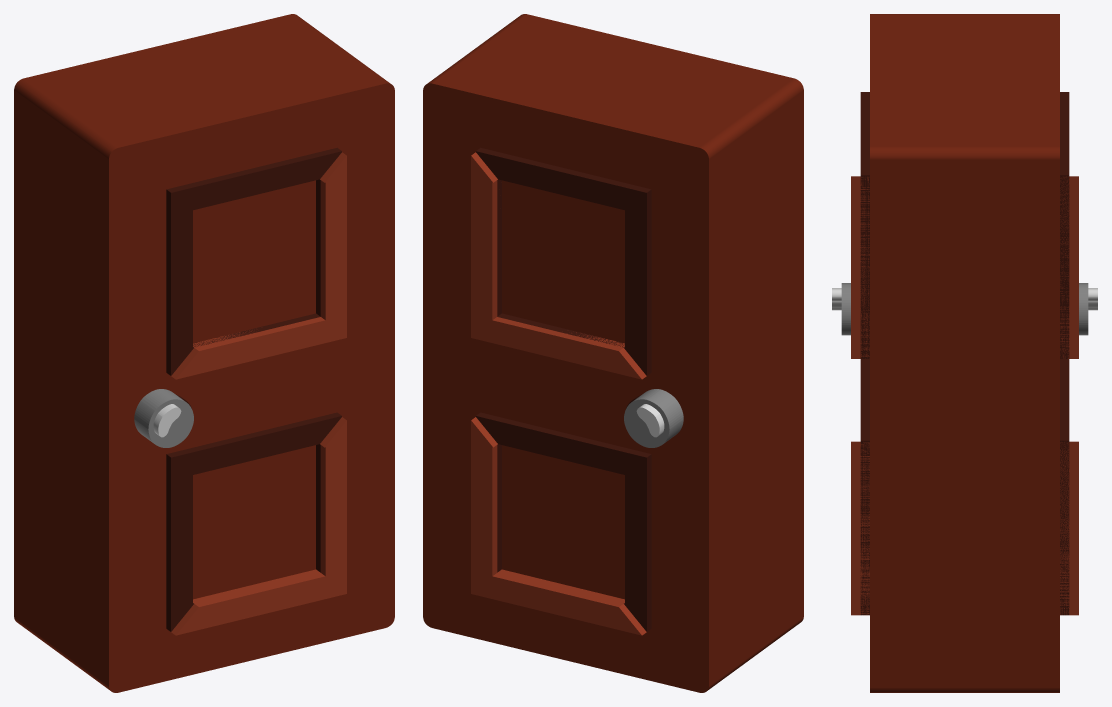
The picture shows the model from 3 angles, left to right: view 1: azimuth 30°, elevation 25°; view 2: azimuth 150°, elevation 25°; view 3: azimuth 270°, elevation 25°; orthographic projection.
Parts seen in each view (by area): view 1: U+1F6AA_layer00_obj00, U+1F6AA_layer01_obj00, U+1F6AA_layer01_obj01, U+1F6AA_layer02_obj01, U+1F6AA_layer02_obj00, U+1F6AA_layer03_obj00; view 2: U+1F6AA_layer00_obj00, U+1F6AA_layer01_obj00, U+1F6AA_layer01_obj01, U+1F6AA_layer02_obj01, U+1F6AA_layer02_obj00, U+1F6AA_layer03_obj00; view 3: U+1F6AA_layer00_obj00, U+1F6AA_layer02_obj01, U+1F6AA_layer02_obj00, U+1F6AA_layer01_obj00, U+1F6AA_layer01_obj01, U+1F6AA_layer03_obj00, U+1F6AA_layer04_obj00.
Part boxes in pixels (x1,y1,x2,y2): U+1F6AA_layer00_obj00: (14, 14, 394, 692); U+1F6AA_layer01_obj00: (166, 147, 341, 375); U+1F6AA_layer01_obj01: (166, 412, 341, 631); U+1F6AA_layer02_obj01: (171, 417, 346, 635); U+1F6AA_layer02_obj00: (171, 152, 346, 379); U+1F6AA_layer03_obj00: (134, 389, 193, 447); U+1F6AA_layer00_obj00: (423, 14, 803, 692); U+1F6AA_layer01_obj00: (476, 147, 651, 375); U+1F6AA_layer01_obj01: (476, 412, 651, 631); U+1F6AA_layer02_obj01: (471, 417, 646, 635); U+1F6AA_layer02_obj00: (471, 152, 646, 379); U+1F6AA_layer03_obj00: (624, 389, 683, 447); U+1F6AA_layer00_obj00: (870, 14, 1059, 692); U+1F6AA_layer02_obj01: (851, 441, 1078, 615); U+1F6AA_layer02_obj00: (851, 176, 1078, 358); U+1F6AA_layer01_obj00: (860, 92, 1069, 358); U+1F6AA_layer01_obj01: (860, 359, 1069, 615); U+1F6AA_layer03_obj00: (841, 283, 1088, 335); U+1F6AA_layer04_obj00: (832, 288, 1097, 310).
Size of the model in its own units: 0.1741 by 0.3174 by 0.14.
